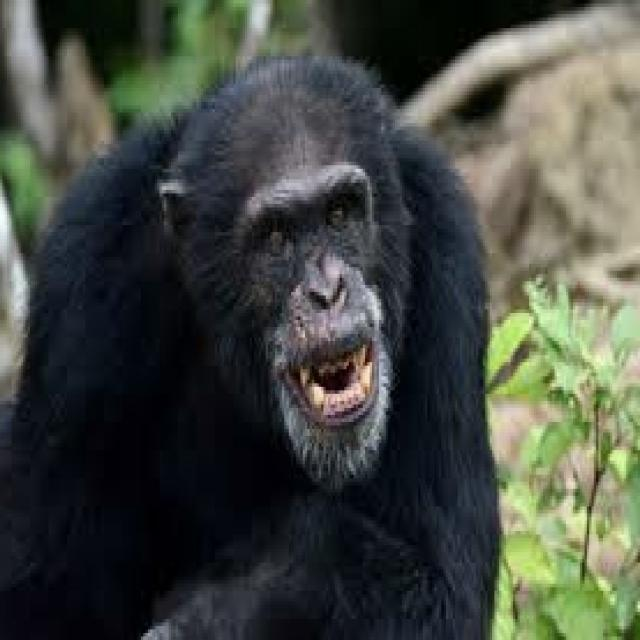chimpanzee: (2, 56, 499, 636)
